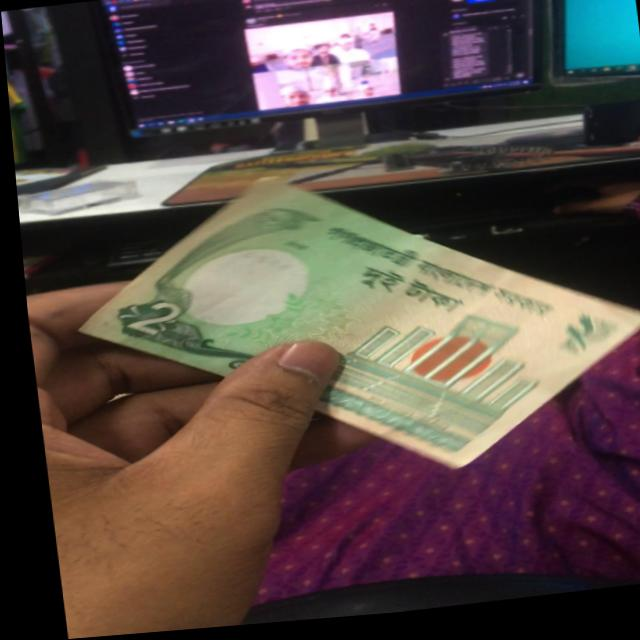Taka: (57, 143, 640, 508)
